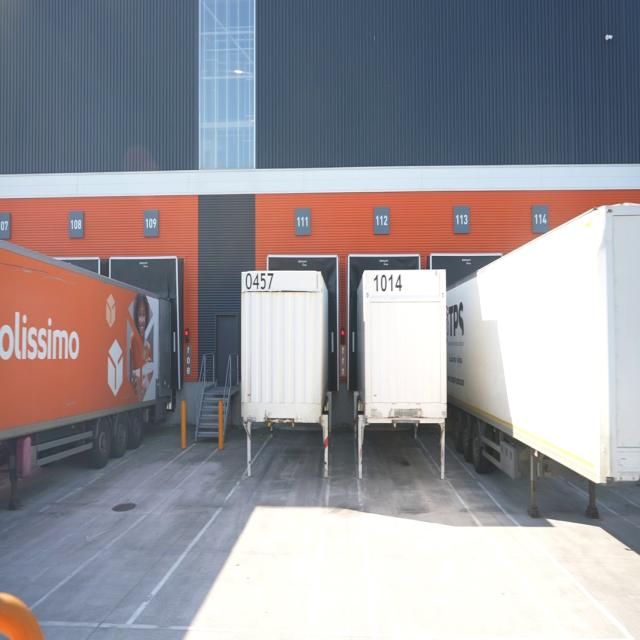Code: (371, 269, 408, 302), (244, 270, 277, 295)
